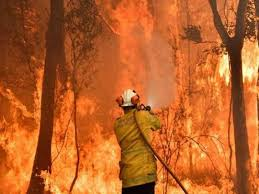fire: (171, 42, 259, 191), (12, 90, 96, 194), (106, 9, 166, 89)
